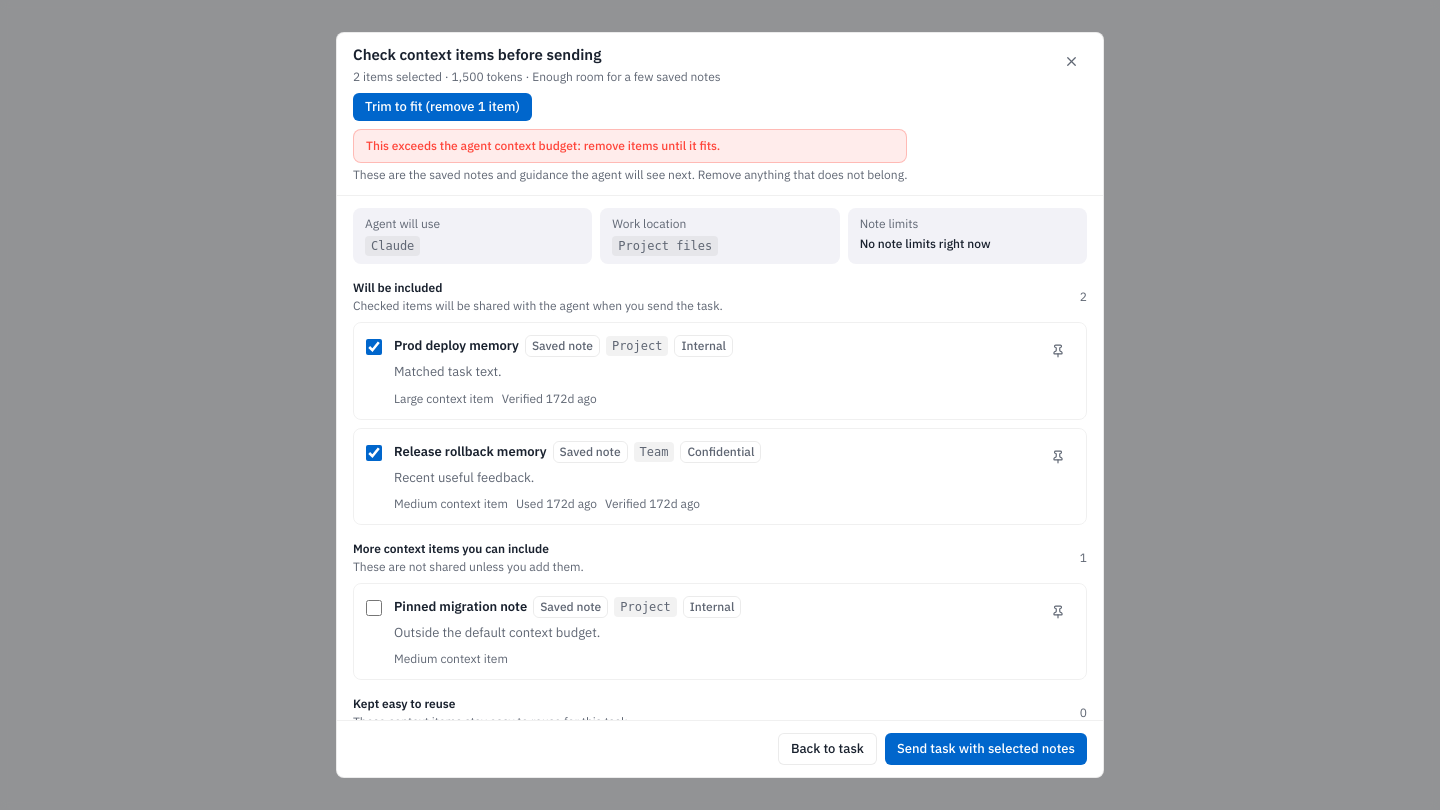
Test: InjectionPreviewModal › offers a trim-to-fit suggestion and applies it
Click the button with test id "context-trim-button" at {"x": 442, "y": 107}, box 353,93 -> 532,121
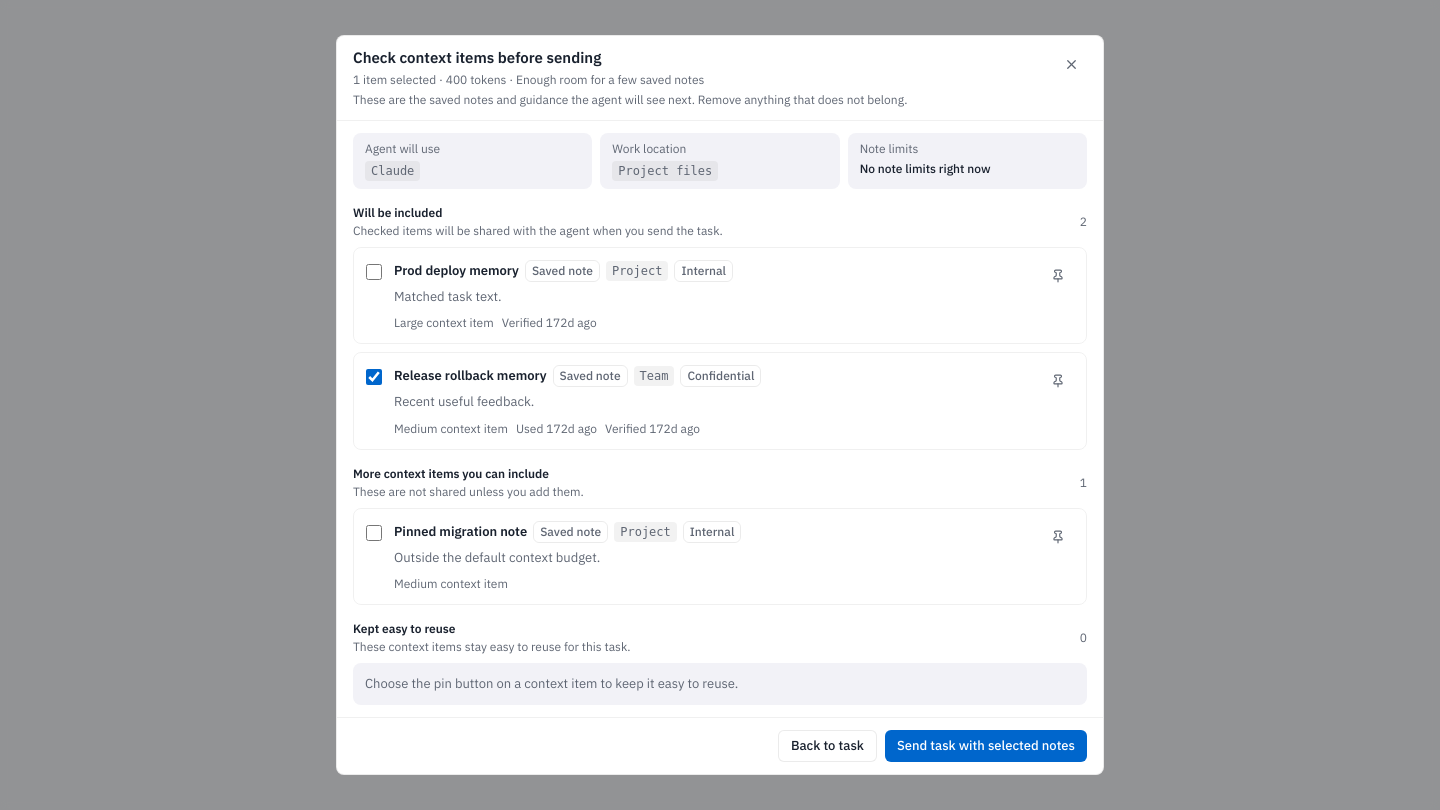
Check: the button with test id "context-trim-button" is gone
Check: the message with test id "context-budget-warning" is gone
